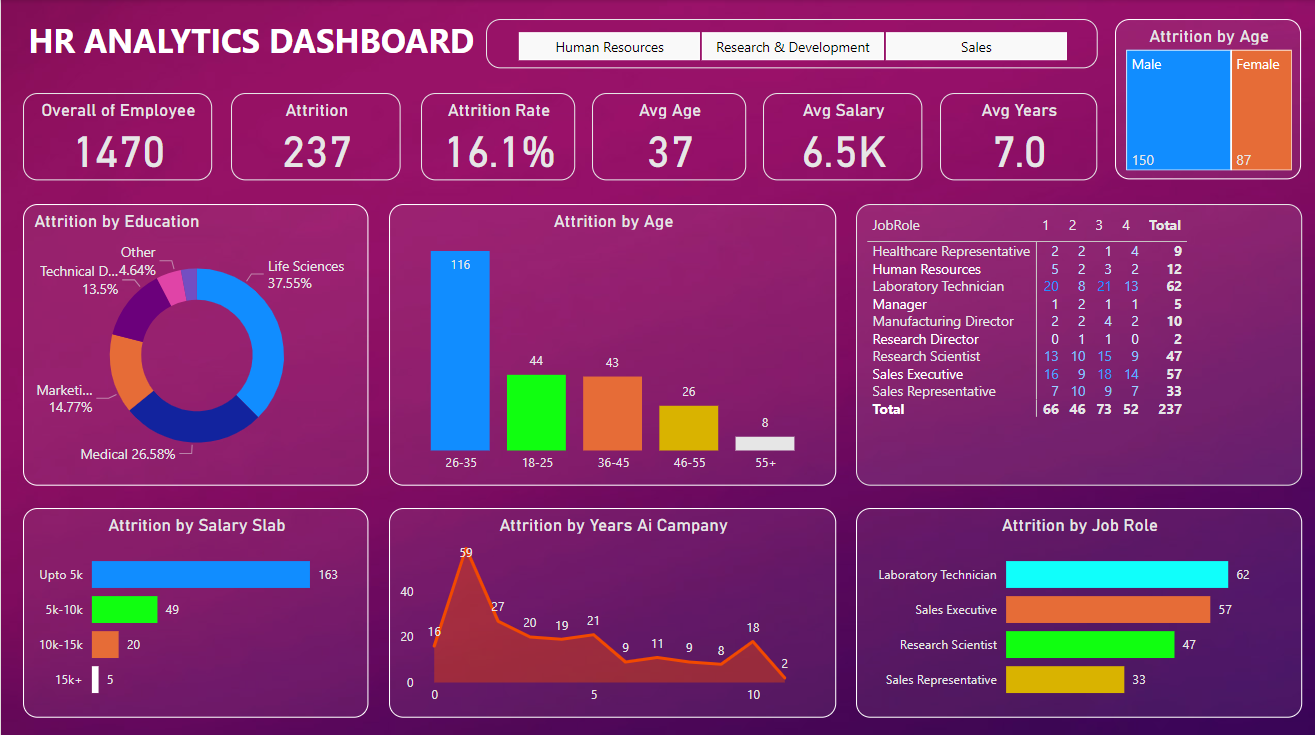

The page's visual inventory and layout, read from the dashboard file:
{"tool":"powerbi","page":{"name":"Page 1","canvas":[1280,720],"ordinal":0},"visuals":[{"type":"card","title":"Overall of Employee","fields":{"Values":["Count(HR_Analytics.EmpID)"]},"box":[21.2,90,183.8,85],"z":0},{"type":"card","title":"Attrition","fields":{"Values":["Sum(HR_Analytics.A1)"]},"box":[223.8,90,165,85],"z":1000},{"type":"card","title":"Attrition Rate","fields":{"Values":["HR_Analytics.AttritionRate"]},"box":[408.8,90,150,85],"z":2000},{"type":"card","title":"Avg Age","fields":{"Values":["Avg(HR_Analytics.Age)"]},"box":[575,90,150,85],"z":3000},{"type":"card","title":"Avg Salary","fields":{"Values":["Avg(HR_Analytics.MonthlyIncome)"]},"box":[741.2,90,155,85],"z":4000},{"type":"card","title":"Avg Years","fields":{"Values":["Avg(HR_Analytics.YearsAtCompany)"]},"box":[913.8,90,152.5,85],"z":5000},{"type":"donutChart","title":"Attrition by Education","fields":{"Category":["HR_Analytics.EducationField"],"Y":["Sum(HR_Analytics.A1)"]},"box":[21.2,198.8,336.2,273.8],"z":6000},{"type":"columnChart","title":"Attrition by Age","fields":{"Category":["HR_Analytics.AgeGroup"],"Y":["Sum(HR_Analytics.A1)"]},"box":[377.5,198.8,435,273.8],"z":7000},{"type":"pivotTable","fields":{"Rows":["HR_Analytics.JobRole"],"Columns":["HR_Analytics.JobSatisfaction"],"Values":["Sum(HR_Analytics.A1)"]},"box":[831.2,198.8,433.8,273.8],"z":8000},{"type":"barChart","title":"Attrition by Salary Slab","fields":{"Category":["HR_Analytics.SalarySlab"],"Y":["Sum(HR_Analytics.A1)"]},"box":[21.2,493.8,336.2,203.8],"z":9000},{"type":"barChart","title":"Attrition by Job Role","fields":{"Y":["Sum(HR_Analytics.A1)"],"Category":["HR_Analytics.JobRole"]},"box":[831.2,493.8,433.8,203.8],"z":10000},{"type":"areaChart","title":"Attrition by Years Ai Campany","fields":{"Category":["HR_Analytics.YearsAtCompany"],"Y":["Sum(HR_Analytics.A1)"]},"box":[377.5,493.8,435,203.8],"z":11000},{"type":"treemap","title":"Attrition by Age","fields":{"Group":["HR_Analytics.Gender"],"Values":["Sum(HR_Analytics.A1)"]},"box":[1083.8,18.8,181.2,156.2],"z":12000},{"type":"slicer","fields":{"Values":["HR_Analytics.Department"]},"box":[471.2,18.8,595,47.5],"z":13000},{"type":"textbox","box":[21.2,11.2,483.8,62.5],"z":14000}]}

Visuals, with their boxes in screenshot pixels (x1, y1, x2, y2), scaled from the page's 1280x720 canvas onto the 1315x735 screenshot:
"Overall of Employee" card: (left=22, top=92, right=211, bottom=179)
"Attrition" card: (left=230, top=92, right=399, bottom=179)
"Attrition Rate" card: (left=420, top=92, right=574, bottom=179)
"Avg Age" card: (left=591, top=92, right=745, bottom=179)
"Avg Salary" card: (left=761, top=92, right=921, bottom=179)
"Avg Years" card: (left=939, top=92, right=1095, bottom=179)
"Attrition by Education" donutChart: (left=22, top=203, right=367, bottom=482)
"Attrition by Age" columnChart: (left=388, top=203, right=835, bottom=482)
pivotTable - HR_Analytics.JobRole x HR_Analytics.JobSatisfaction: (left=854, top=203, right=1300, bottom=482)
"Attrition by Salary Slab" barChart: (left=22, top=504, right=367, bottom=712)
"Attrition by Job Role" barChart: (left=854, top=504, right=1300, bottom=712)
"Attrition by Years Ai Campany" areaChart: (left=388, top=504, right=835, bottom=712)
"Attrition by Age" treemap: (left=1113, top=19, right=1300, bottom=179)
slicer - HR_Analytics.Department: (left=484, top=19, right=1095, bottom=68)
textbox: (left=22, top=11, right=519, bottom=75)
